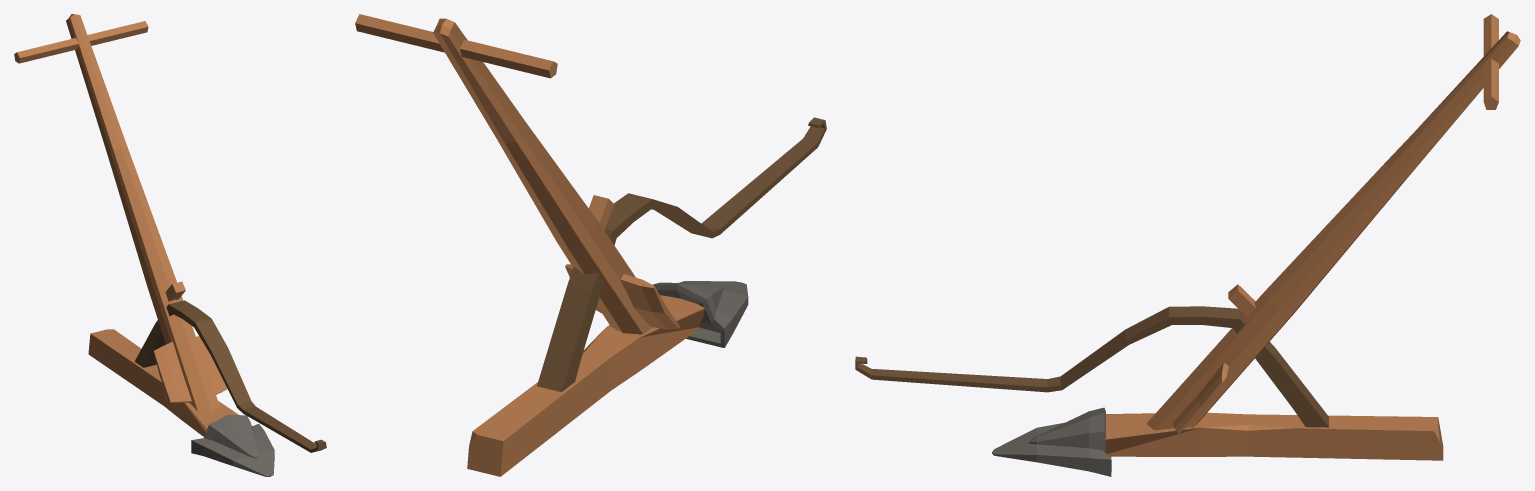
3 views of the same model, side by side, from view 1: azimuth 30°, elevation 25°; view 2: azimuth 150°, elevation 25°; view 3: azimuth 270°, elevation 25° (orthographic). The views are drawn at different scales.
Parts seen in each view (by area): view 1: tieli; view 2: tieli; view 3: tieli.
Part boxes in pixels (x1,y1,x2,y2): tieli: [14, 14, 326, 476]; tieli: [355, 14, 826, 476]; tieli: [855, 14, 1520, 476].
Bounding box in the file's own units: 52.37 × 125 × 178.
